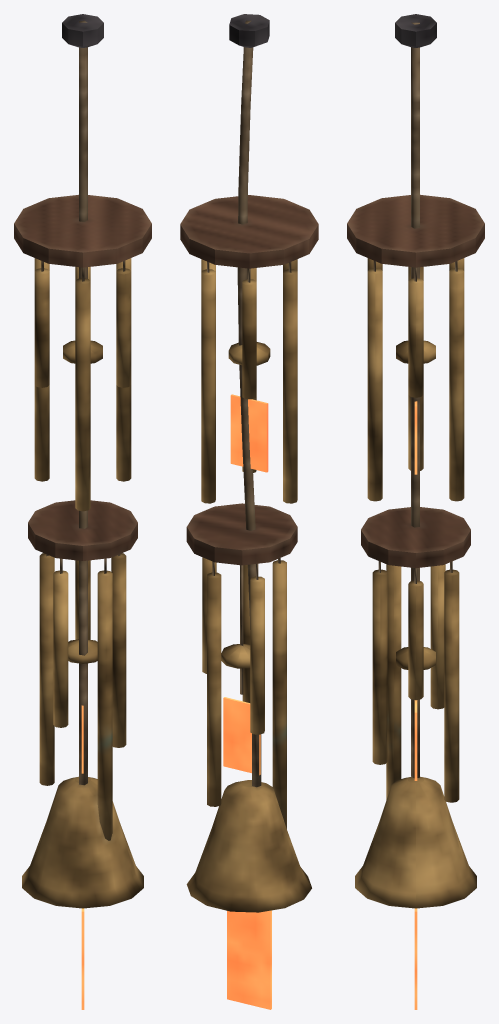
The model's file is StiltVillage_Hang.fbx.
The picture shows the model from 3 angles, left to right: view 1: azimuth 90°, elevation 25°; view 2: azimuth 150°, elevation 25°; view 3: azimuth 270°, elevation 25°; orthographic projection.
Visible parts, largest first — view 1: StiltVillage_Hang; view 2: StiltVillage_Hang; view 3: StiltVillage_Hang.
Part boxes in pixels (left/top/right/bottom): StiltVillage_Hang: left=14, top=14, right=151, bottom=1009; StiltVillage_Hang: left=180, top=14, right=318, bottom=1009; StiltVillage_Hang: left=347, top=14, right=484, bottom=1009.
Size of the model in its own units: 0.33 by 2.58 by 0.33.
